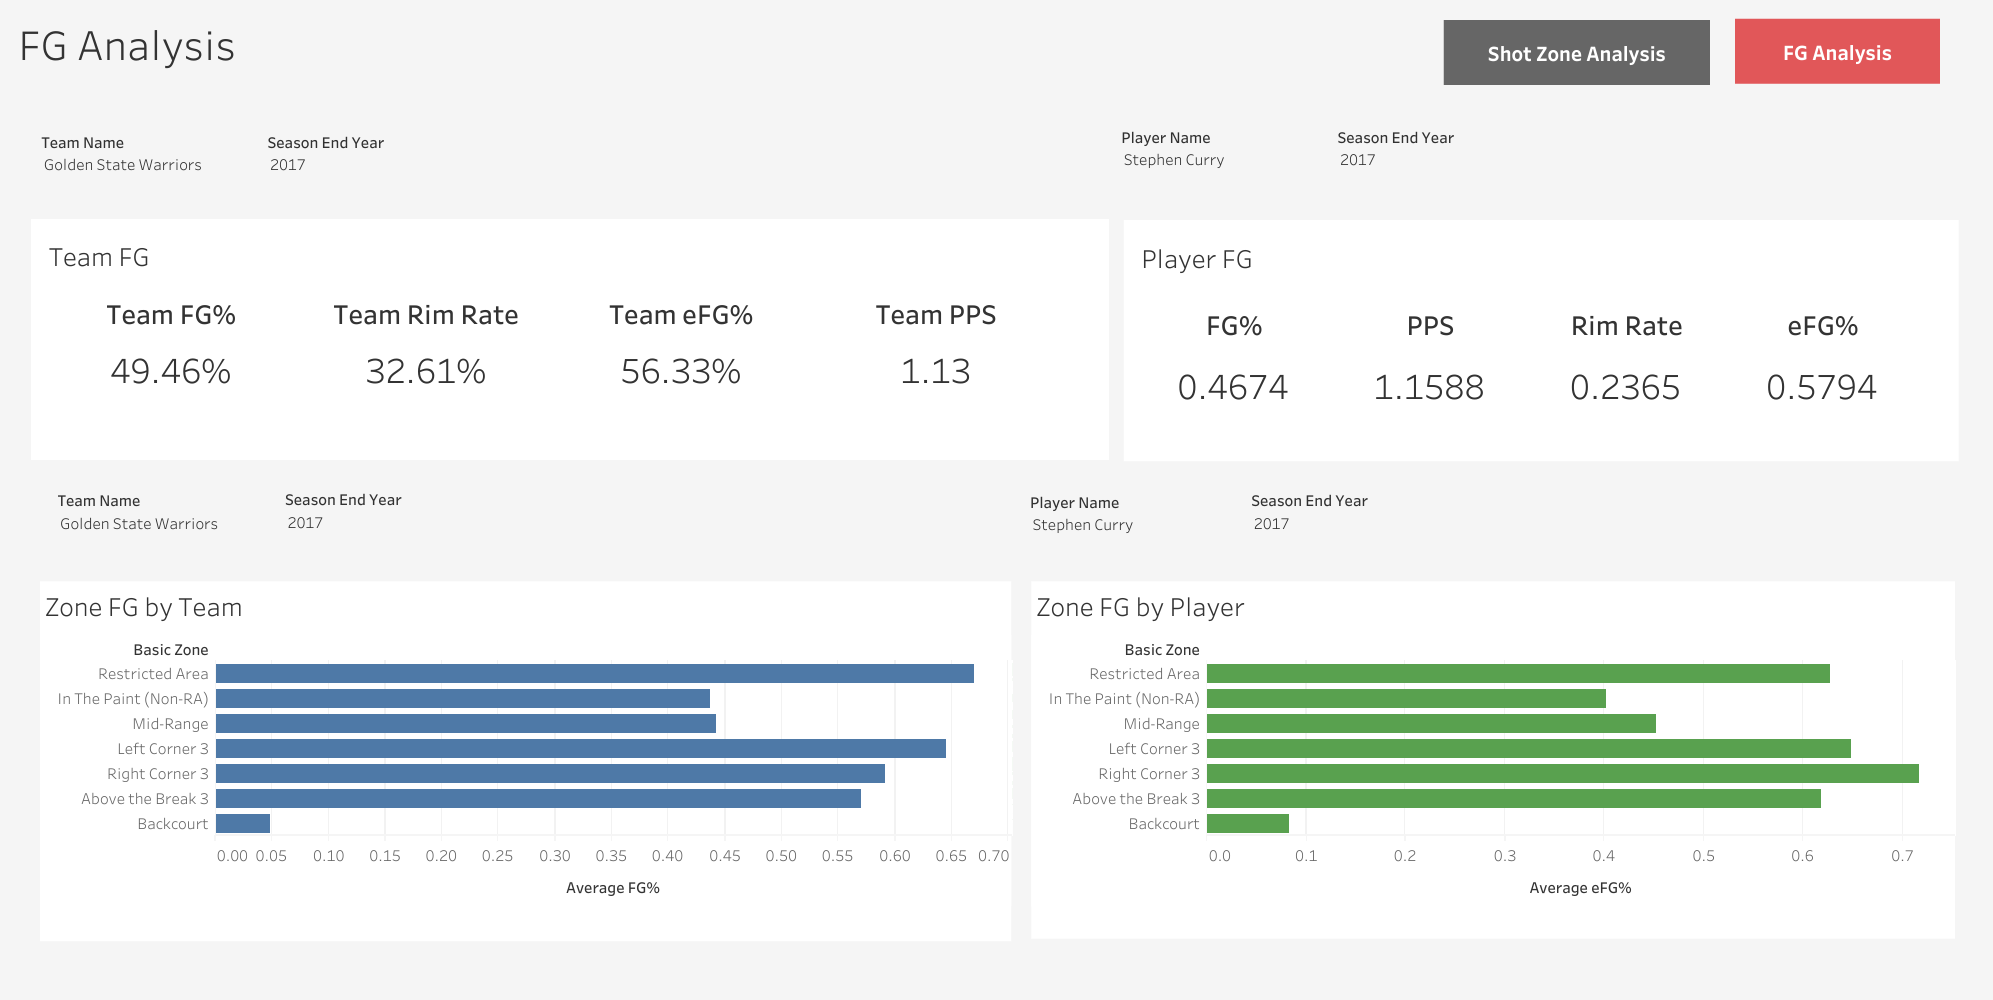

This screenshot's page, from the dashboard's own definition file:
{"tool":"tableau","page":{"name":"FG Analysis","canvas":[1000,1000],"units":"permille","ordinal":0},"visuals":[{"type":"title","box":[5,10,889.6,79.9]},{"type":"dashboard-object","box":[870.2,18.7,102.8,64.9]},{"type":"dashboard-object","box":[724.1,20,133.5,64.9]},{"type":"filter","title":"Player FG","param":"[federated.04q6obv0sj0k1g1f3rzme1n8km3s (copy)].[none:PLAYER_NAME:nk]","box":[562.4,123.6,105.3,76.2]},{"type":"filter","title":"Player FG","param":"[federated.04q6obv0sj0k1g1f3rzme1n8km3s (copy)].[none:SEASON_1:ok]","box":[670.9,123.6,105.3,76.2]},{"type":"filter","title":"Team FG","param":"[federated.1tftnkw1dl6l7p1bgjx1a1u9h3q4].[none:TEAM_NAME:nk]","box":[20.7,128.6,105.3,76.2]},{"type":"filter","title":"Team FG","param":"[federated.1tftnkw1dl6l7p1bgjx1a1u9h3q4].[none:SEASON_1:ok]","box":[134.2,128.6,105.3,76.2]},{"type":"worksheet","title":"Team FG","mark":"Automatic","box":[15.7,218.5,540.4,241]},{"type":"worksheet","title":"Player FG","mark":"Automatic","box":[563.6,219.7,418.8,241]},{"type":"filter","title":"Zone FG by Team","param":"[federated.1tftnkw1dl6l7p1bgjx1a1u9h3q4 (copy)].[none:SEASON_1:ok]","box":[143,485.6,105.3,76.2]},{"type":"filter","title":"Zone FG by Team","param":"[federated.1tftnkw1dl6l7p1bgjx1a1u9h3q4 (copy)].[none:TEAM_NAME:nk]","box":[28.8,486.9,105.3,76.2]},{"type":"filter","title":"Zone FG by Player","param":"[federated.04q6obv0sj0k1g1f3rzme1n8km3s].[none:SEASON_1:ok]","box":[627.6,486.9,105.3,76.2]},{"type":"filter","title":"Zone FG by Player","param":"[federated.04q6obv0sj0k1g1f3rzme1n8km3s].[none:PLAYER_NAME:nk]","box":[516.6,488.1,105.3,76.2]},{"type":"worksheet","title":"Zone FG by Team","mark":"Automatic","rows":["BASIC_ZONE"],"cols":["Pivot Field Values"],"box":[20.1,580.5,487.2,359.6]},{"type":"worksheet","title":"Zone FG by Player","mark":"Automatic","rows":["BASIC_ZONE"],"cols":["eFG"],"box":[517.2,580.5,463.3,357.1]}]}

Visuals, with their boxes on the dashboard's canvas, which has no fixed pixel size, in thousandths of its width and height (x1, y1, x2, y2). These are canvas units, not pixel positions in the 1993x1000 screenshot, which may show the page scaled, cropped or inside an application window:
title: x1=5 y1=10 x2=895 y2=90
dashboard-object: x1=870 y1=19 x2=973 y2=84
dashboard-object: x1=724 y1=20 x2=858 y2=85
"Player FG" filter: x1=562 y1=124 x2=668 y2=200
"Player FG" filter: x1=671 y1=124 x2=776 y2=200
"Team FG" filter: x1=21 y1=129 x2=126 y2=205
"Team FG" filter: x1=134 y1=129 x2=240 y2=205
"Team FG" worksheet: x1=16 y1=218 x2=556 y2=460
"Player FG" worksheet: x1=564 y1=220 x2=982 y2=461
"Zone FG by Team" filter: x1=143 y1=486 x2=248 y2=562
"Zone FG by Team" filter: x1=29 y1=487 x2=134 y2=563
"Zone FG by Player" filter: x1=628 y1=487 x2=733 y2=563
"Zone FG by Player" filter: x1=517 y1=488 x2=622 y2=564
"Zone FG by Team" worksheet: x1=20 y1=580 x2=507 y2=940
"Zone FG by Player" worksheet: x1=517 y1=580 x2=980 y2=938
